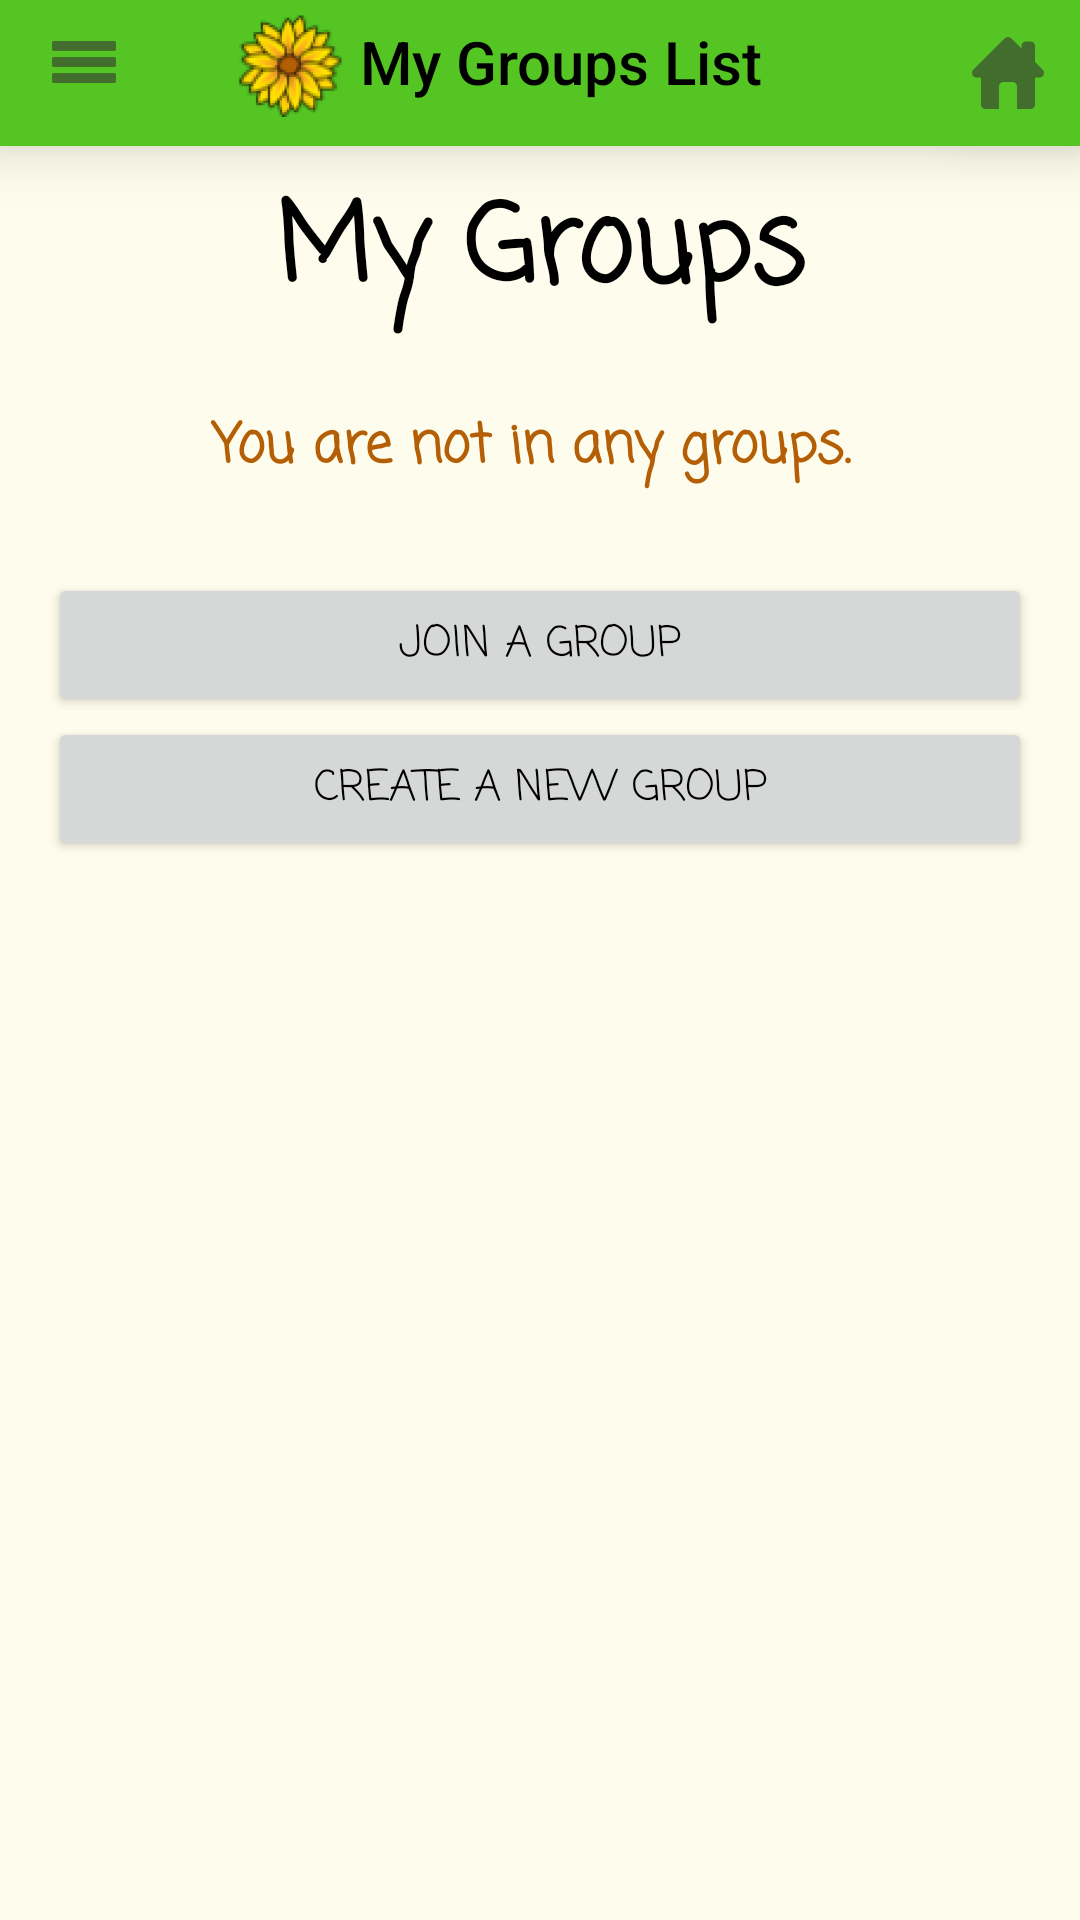

Icon click points for this 1080w x 1920h phone screenshot, format (x=x, y=y):
home: (x=1008, y=73)
